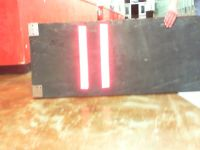switch: (77, 25, 90, 89), (99, 23, 111, 89)
